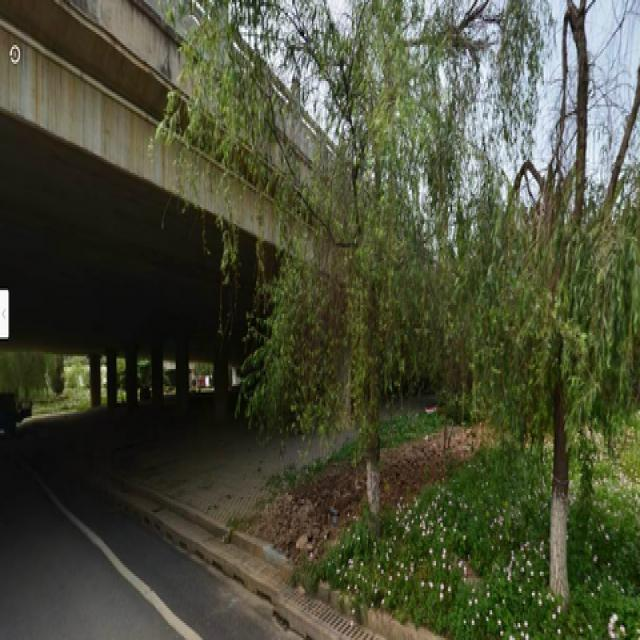plat: (276, 21, 441, 478)
